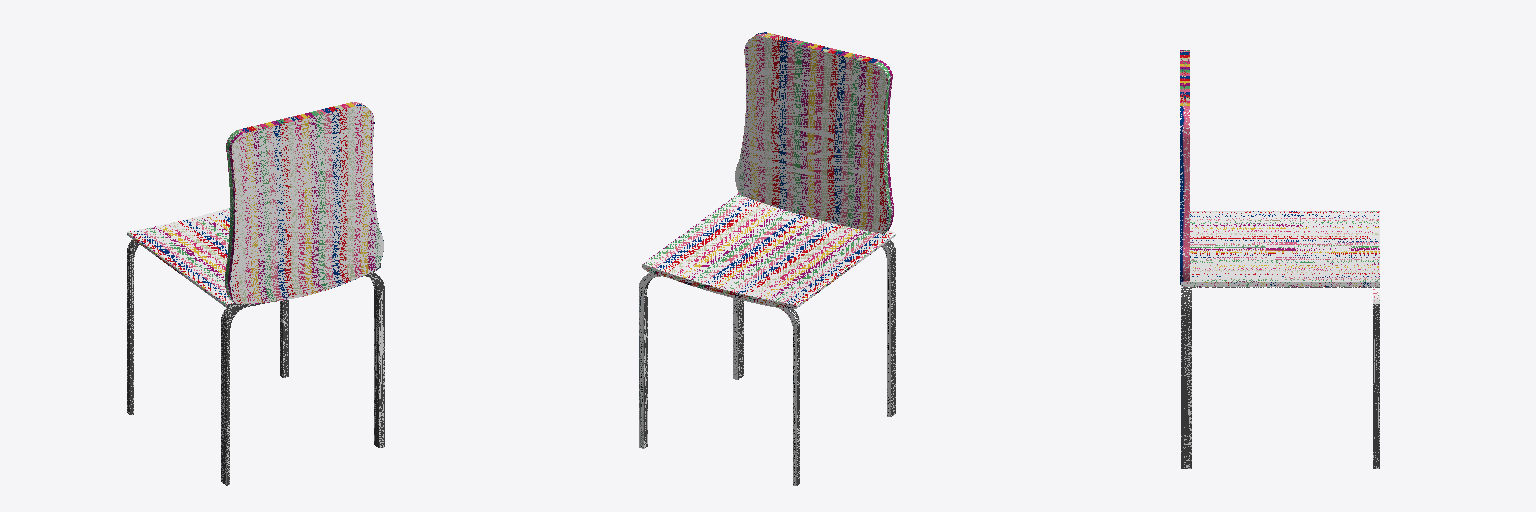
3 views of the same model, side by side, from view 1: azimuth 30°, elevation 25°; view 2: azimuth 150°, elevation 25°; view 3: azimuth 270°, elevation 25° (orthographic).
Visible parts, largest first — view 1: mesh2_mesh2-geometry, mesh1_mesh1-geometry; view 2: mesh2_mesh2-geometry, mesh1_mesh1-geometry; view 3: mesh1_mesh1-geometry, mesh2_mesh2-geometry.
Boxes of the visible parts, x1,y1,x2,y2 form: mesh2_mesh2-geometry: [225, 102, 383, 303]; mesh1_mesh1-geometry: [127, 208, 384, 485]; mesh2_mesh2-geometry: [735, 32, 893, 233]; mesh1_mesh1-geometry: [639, 193, 895, 485]; mesh1_mesh1-geometry: [1181, 211, 1379, 468]; mesh2_mesh2-geometry: [1180, 50, 1189, 284].
Bounding box in the file's own units: 0.3619 × 0.7603 × 0.3966.
9 materials, 6 textured.